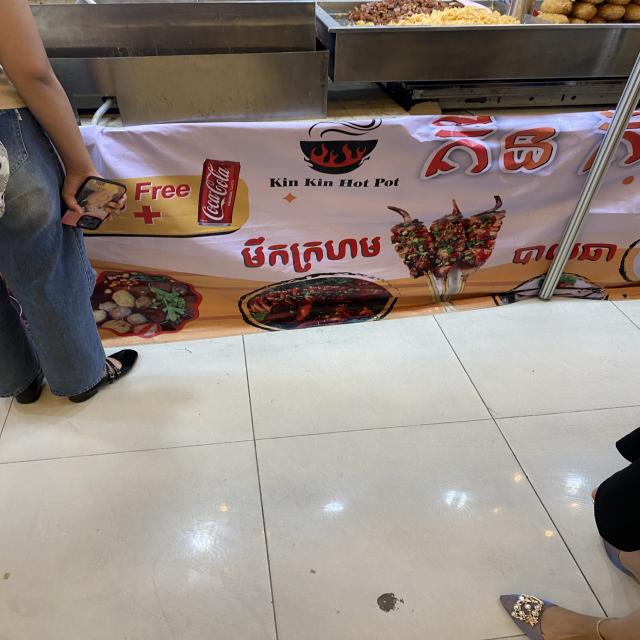Yolov11kh: (409, 110, 578, 186), (237, 227, 384, 280), (571, 234, 622, 270), (503, 239, 564, 269)
